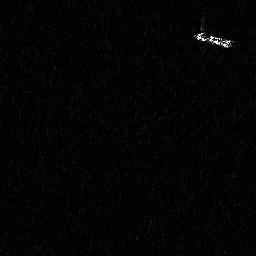ship: (192, 28, 233, 50)
